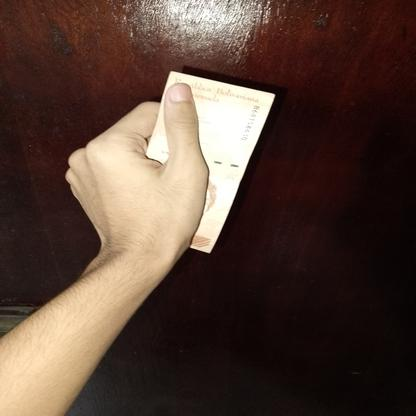twenty-front-vef: (144, 70, 274, 254)
